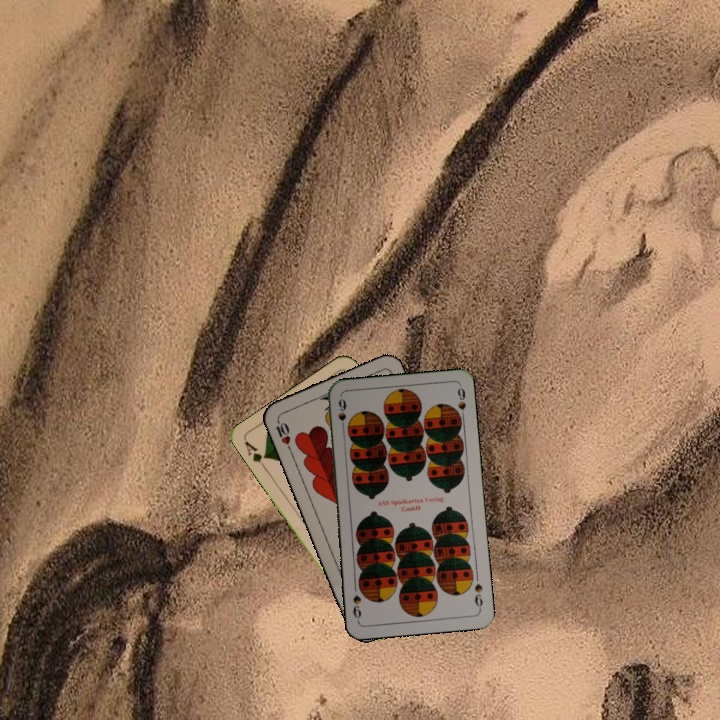GA: (240, 437, 270, 473)
H10: (272, 414, 294, 453)
S9: (334, 394, 349, 435), (470, 580, 486, 612)
